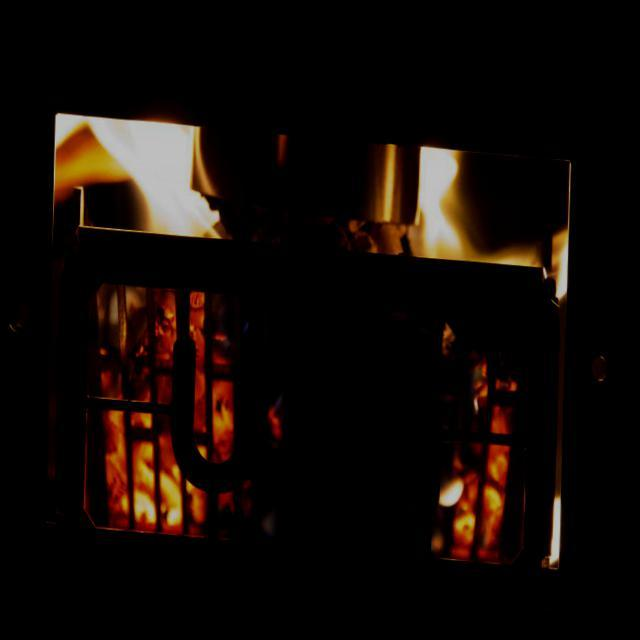Fire: (46, 112, 540, 563)
